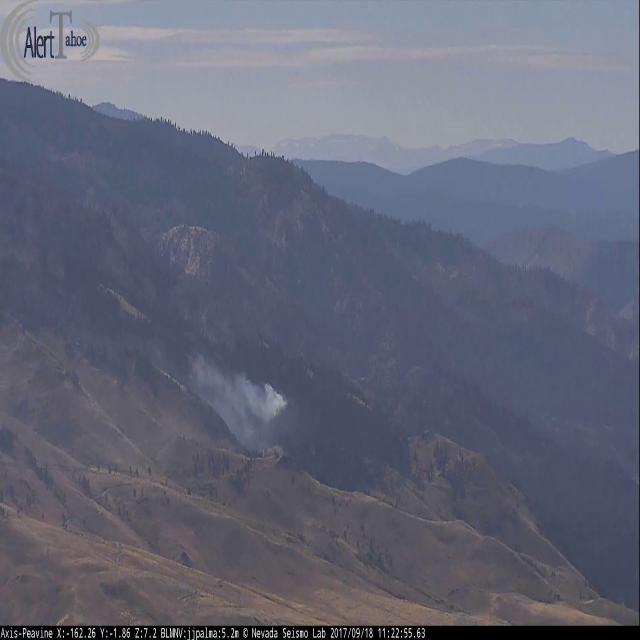smoke: (182, 346, 289, 454)
